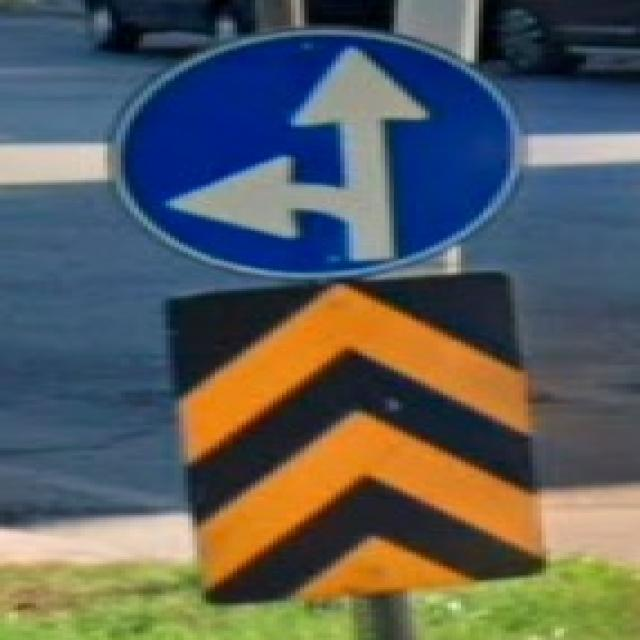Straight or Left: (111, 27, 522, 279)
